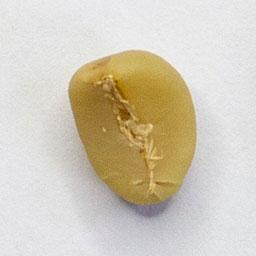defect: (65, 47, 200, 209)
